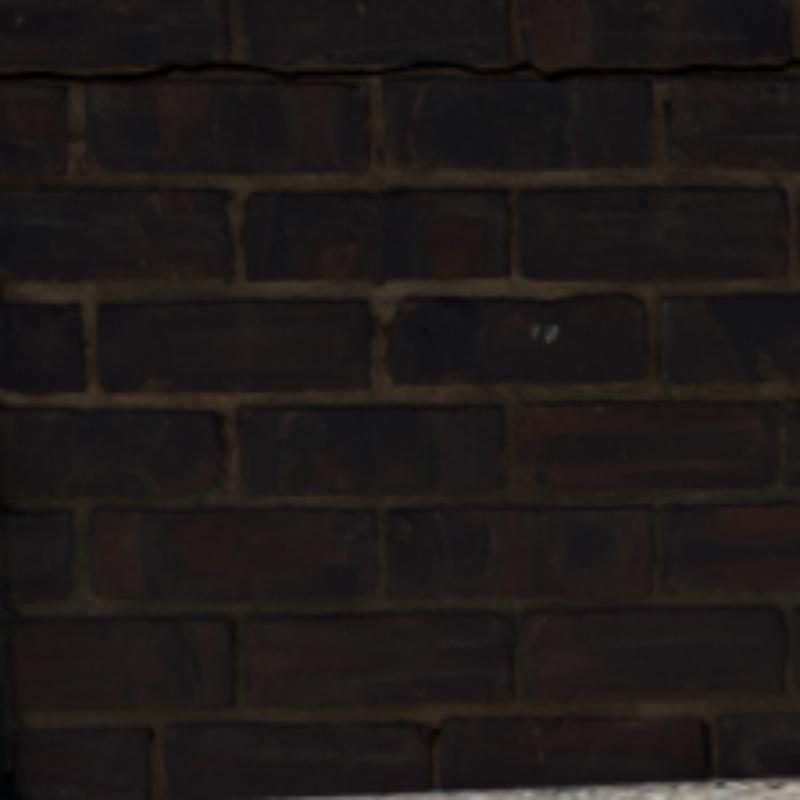pothole: (0, 57, 796, 82)
